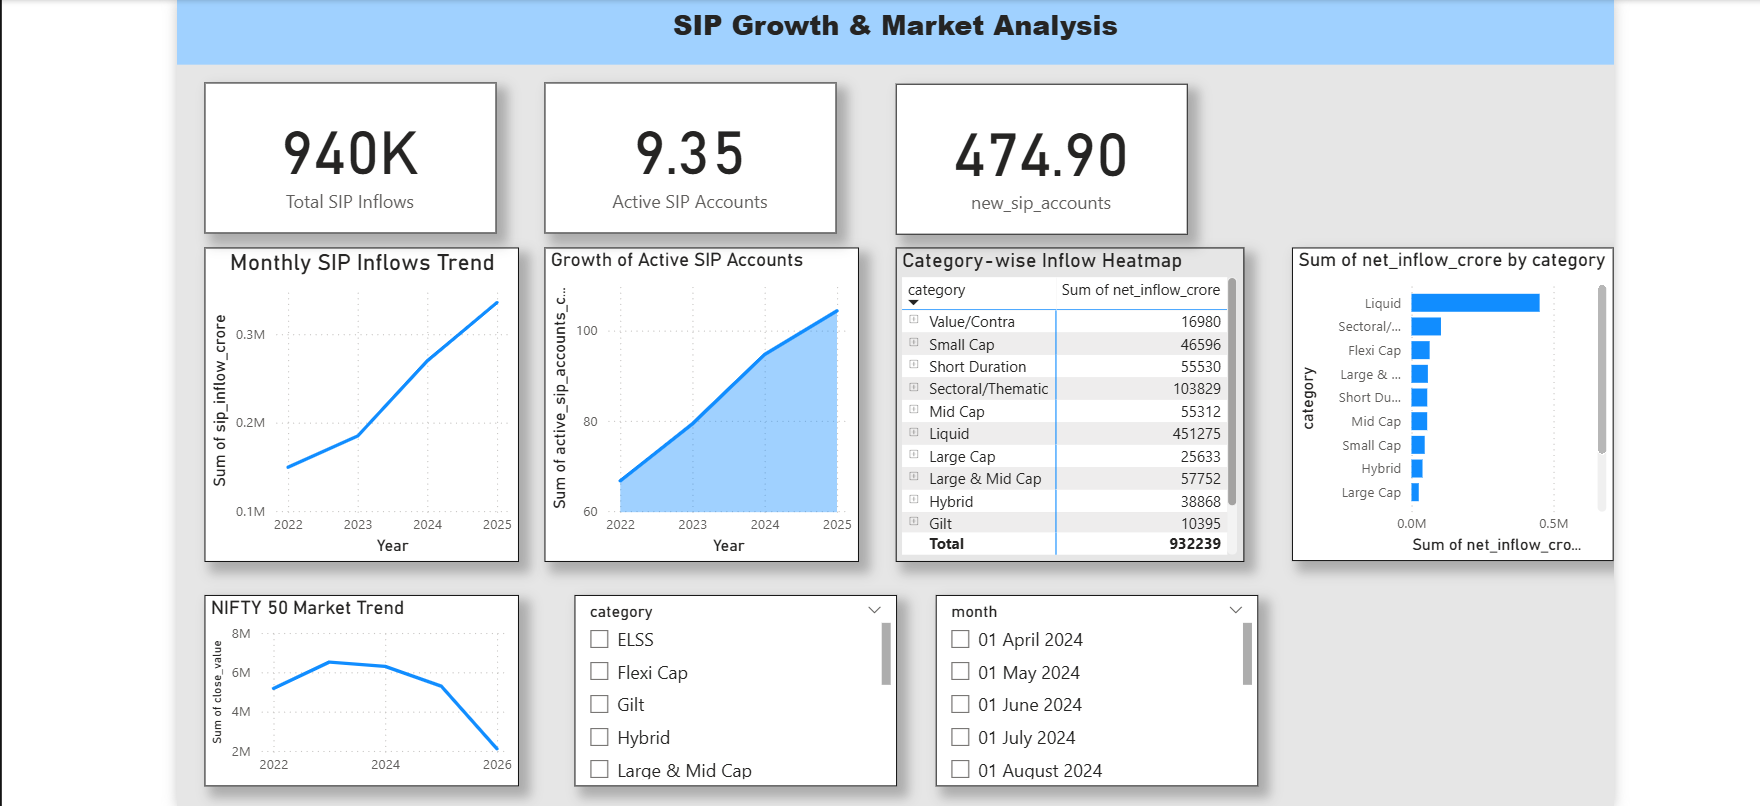

The page's visual inventory and layout, read from the dashboard file:
{"tool":"powerbi","page":{"name":"SIP_Market_Trends","canvas":[1280,720],"ordinal":3},"visuals":[{"type":"lineChart","title":"Monthly SIP Inflows Trend","fields":{"Category":["04_monthly_sip_inflows_clean.month.Variation.Date Hierarchy.Year","04_monthly_sip_inflows_clean.month.Variation.Date Hierarchy.Quarter","04_monthly_sip_inflows_clean.month.Variation.Date Hierarchy.Month","04_monthly_sip_inflows_clean.month.Variation.Date Hierarchy.Day"],"Y":["Sum(04_monthly_sip_inflows_clean.sip_inflow_crore)"]},"box":[24.5,220.7,279.9,279.9],"z":0},{"type":"areaChart","title":"Growth of Active SIP Accounts","fields":{"Category":["04_monthly_sip_inflows_clean.month.Variation.Date Hierarchy.Year","04_monthly_sip_inflows_clean.month.Variation.Date Hierarchy.Quarter","04_monthly_sip_inflows_clean.month.Variation.Date Hierarchy.Month","04_monthly_sip_inflows_clean.month.Variation.Date Hierarchy.Day"],"Y":["Sum(04_monthly_sip_inflows_clean.active_sip_accounts_crore)"]},"box":[327.5,220.7,279.9,279.9],"z":1000},{"type":"pivotTable","title":"Category-wise Inflow Heatmap","fields":{"Rows":["05_category_inflows.category","05_category_inflows.month.Variation.Date Hierarchy.Year","05_category_inflows.month.Variation.Date Hierarchy.Quarter","05_category_inflows.month.Variation.Date Hierarchy.Month","05_category_inflows.month.Variation.Date Hierarchy.Day"],"Values":["Sum(05_category_inflows.net_inflow_crore)"]},"box":[640.6,220.7,310.2,279.9],"z":2000},{"type":"clusteredBarChart","fields":{"Category":["05_category_inflows.category"],"Y":["Sum(05_category_inflows.net_inflow_crore)"]},"box":[993.1,220.7,286.5,279.4],"z":3000},{"type":"lineChart","title":"NIFTY 50 Market Trend","fields":{"Category":["10_benchmark_indices.date.Variation.Date Hierarchy.Year","10_benchmark_indices.date.Variation.Date Hierarchy.Quarter","10_benchmark_indices.date.Variation.Date Hierarchy.Month","10_benchmark_indices.date.Variation.Date Hierarchy.Day"],"Y":["Sum(10_benchmark_indices.close_value)"]},"box":[24.5,529.5,279.9,170.2],"z":4000},{"type":"card","fields":{"Values":["Sum(04_monthly_sip_inflows_clean.sip_inflow_crore)"]},"box":[24.5,73.6,259.7,134.2],"z":5000},{"type":"card","fields":{"Values":["Max(04_monthly_sip_inflows_clean.active_sip_accounts_crore)"]},"box":[327.5,73.6,259.7,134.2],"z":6000},{"type":"card","fields":{"Values":["Sum(04_monthly_sip_inflows_clean.new_sip_accounts_lakh)"]},"box":[640.6,75,259.7,134.2],"z":7000},{"type":"slicer","fields":{"Values":["05_category_inflows.category"]},"box":[353.5,529.5,287.1,170.2],"z":8000},{"type":"slicer","fields":{"Values":["05_category_inflows.month"]},"box":[675.2,529.5,287.1,170.2],"z":9000},{"type":"textbox","box":[0,0,1279.7,57.7],"z":10000}]}

Visuals, with their boxes on the page's 1280x720 design canvas (x1, y1, x2, y2). These are canvas units, not pixel positions in the 1760x806 screenshot, which may show the page scaled, cropped or inside an application window:
"Monthly SIP Inflows Trend" lineChart: <box>24,221,304,501</box>
"Growth of Active SIP Accounts" areaChart: <box>328,221,607,501</box>
"Category-wise Inflow Heatmap" pivotTable: <box>641,221,951,501</box>
clusteredBarChart - 05_category_inflows.category x Sum(05_category_inflows.net_inflow_crore): <box>993,221,1280,500</box>
"NIFTY 50 Market Trend" lineChart: <box>24,530,304,700</box>
card - Sum(04_monthly_sip_inflows_clean.sip_inflow_crore): <box>24,74,284,208</box>
card - Max(04_monthly_sip_inflows_clean.active_sip_accounts_crore): <box>328,74,587,208</box>
card - Sum(04_monthly_sip_inflows_clean.new_sip_accounts_lakh): <box>641,75,900,209</box>
slicer - 05_category_inflows.category: <box>354,530,641,700</box>
slicer - 05_category_inflows.month: <box>675,530,962,700</box>
textbox: <box>0,0,1280,58</box>
